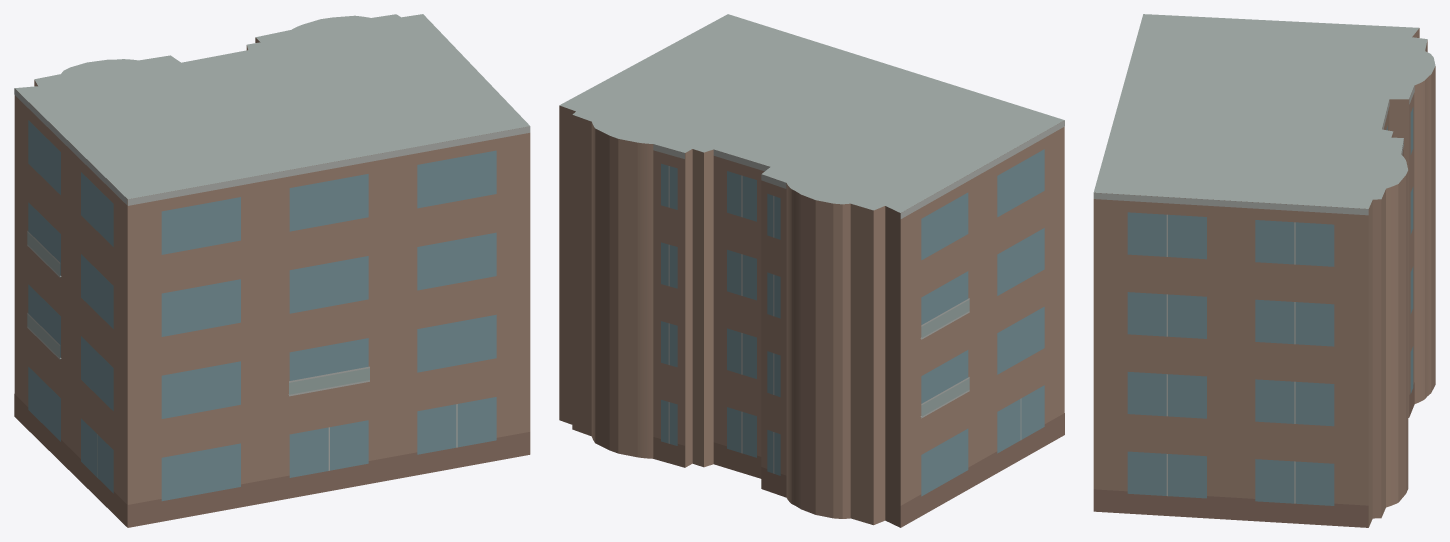
The model's file is survey-upis-32987790.glb.
The picture shows the model from 3 angles, left to right: view 1: azimuth 30°, elevation 25°; view 2: azimuth 150°, elevation 25°; view 3: azimuth 270°, elevation 25°; orthographic projection. The views are drawn at different scales.
Visible parts, largest first — view 1: survey-upis-32987790.tmp; view 2: survey-upis-32987790.tmp; view 3: survey-upis-32987790.tmp.
Part boxes in pixels (x1,y1,x2,y2): survey-upis-32987790.tmp: (14, 14, 530, 527); survey-upis-32987790.tmp: (559, 14, 1064, 527); survey-upis-32987790.tmp: (1093, 14, 1435, 527).
Bounding box in the file's own units: 16 × 12.2 × 11.86.
